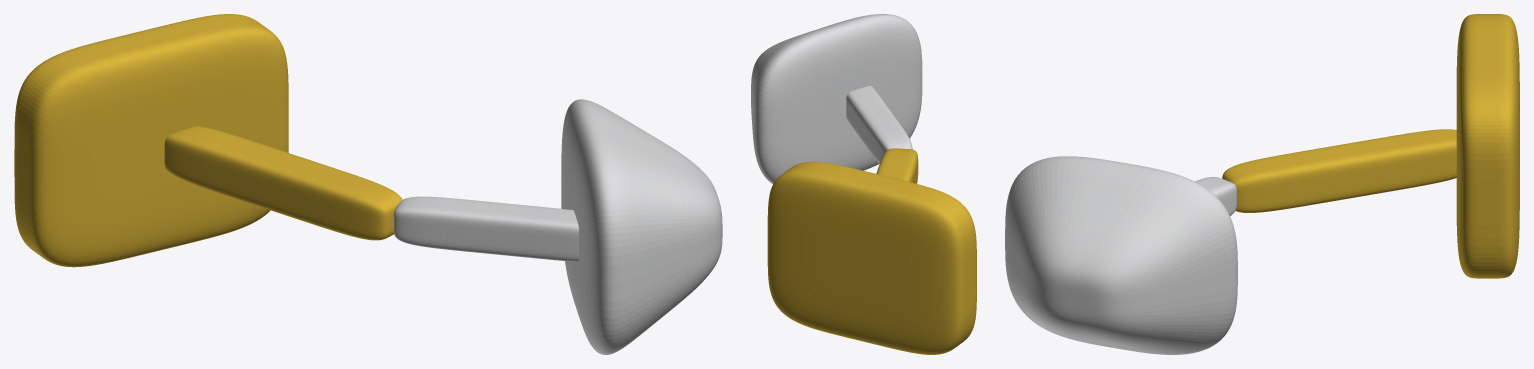
File: articulated_desk_lamp_sq.glb
The picture shows the model from 3 angles, left to right: view 1: azimuth 30°, elevation 25°; view 2: azimuth 150°, elevation 25°; view 3: azimuth 270°, elevation 25°; orthographic projection. The views are drawn at different scales.
Visible parts, largest first — view 1: superquadric_0, superquadric_3, superquadric_1, superquadric_2; view 2: superquadric_0, superquadric_3, superquadric_2, superquadric_1; view 3: superquadric_3, superquadric_0, superquadric_1, superquadric_2.
Part boxes in pixels (x1,y1,x2,y2): superquadric_0: (14,14,288,267); superquadric_3: (561,99,722,354); superquadric_1: (164,126,402,240); superquadric_2: (393,196,578,261); superquadric_0: (767,161,976,354); superquadric_3: (751,14,922,183); superquadric_2: (846,86,912,163); superquadric_1: (876,148,918,183); superquadric_3: (1005,156,1237,354); superquadric_0: (1456,14,1519,278); superquadric_1: (1222,129,1456,212); superquadric_2: (1195,176,1236,216).
Size of the model in its own units: 0.9948 by 0.4046 by 1.
